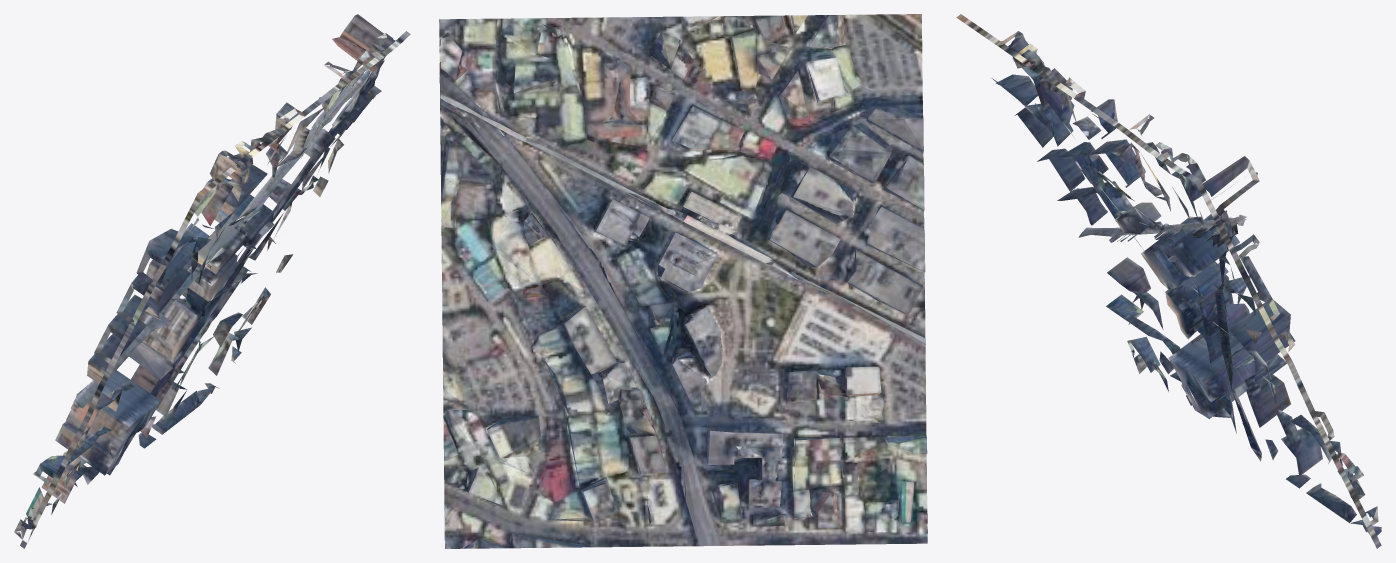
3 renders of one model, left to right at view 1: azimuth 30°, elevation 25°; view 2: azimuth 150°, elevation 25°; view 3: azimuth 270°, elevation 25°, orthographic. The views are drawn at different scales.
Size of the model in its own units: 615 by 568 by 515.
1 material, 1 textured.
